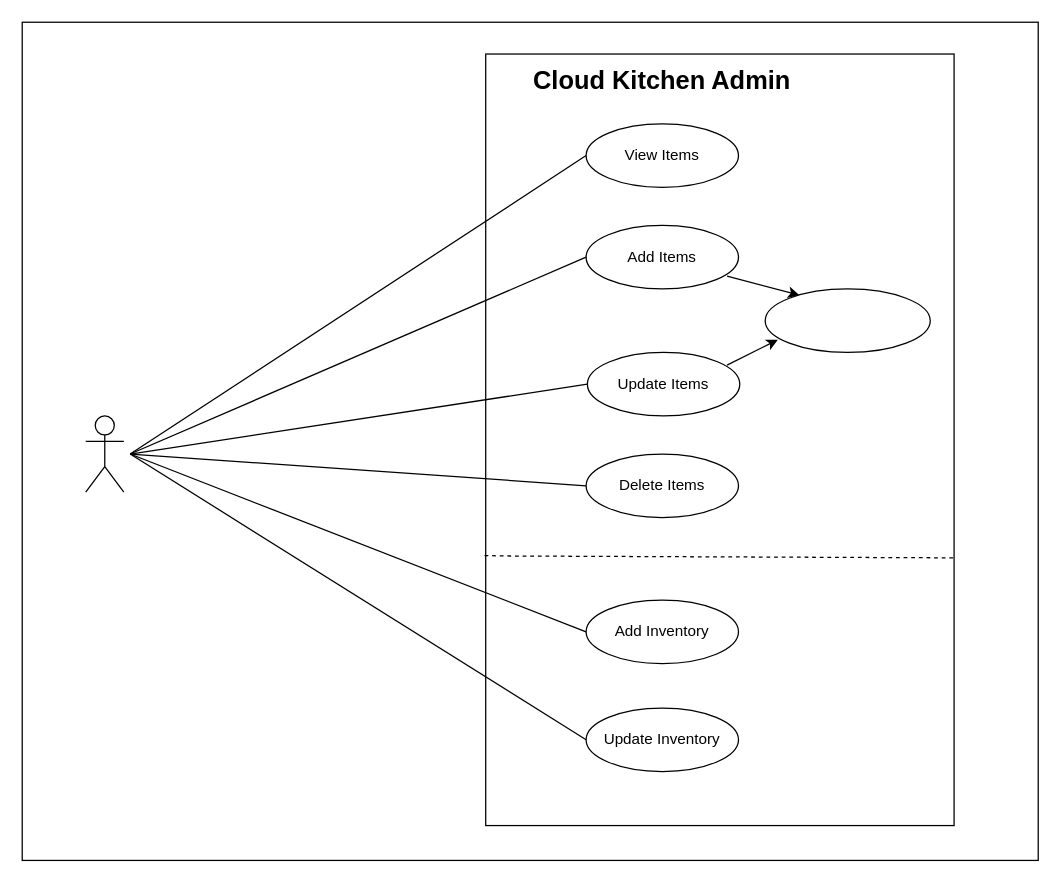
Some shapes in this 1060 by 883 pixel diagram are drawn without their labels. The box of each missing label's shape, as (x1, y1, x2, y2) in pixels:
Staff: (84, 415, 124, 492)
Upload pictures: (764, 288, 930, 352)
